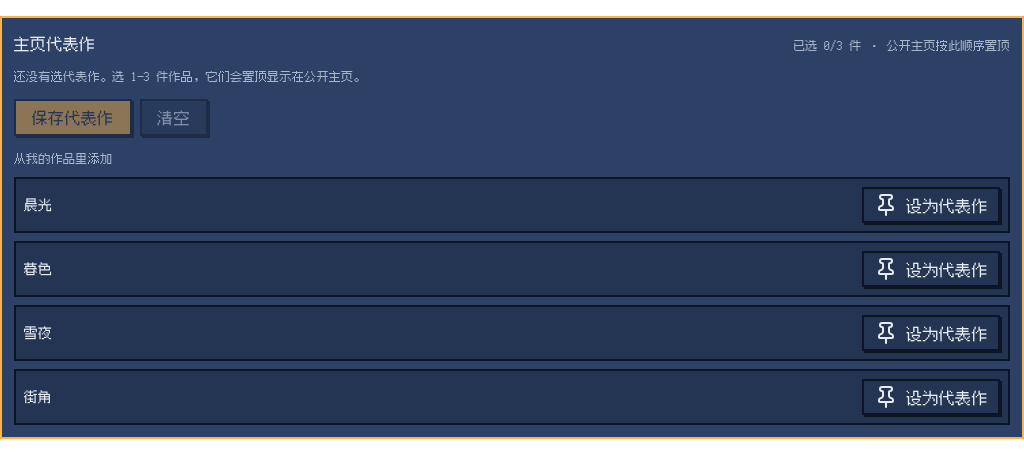
Test: PinnedWorksPicker（/me） › 保存失败时把后端文案原样提示，不吞掉校验原因
Click the button with aria-label "把「晨光」设为代表作" at (931, 205), box top-left (862, 187), bottom-right (1000, 223)
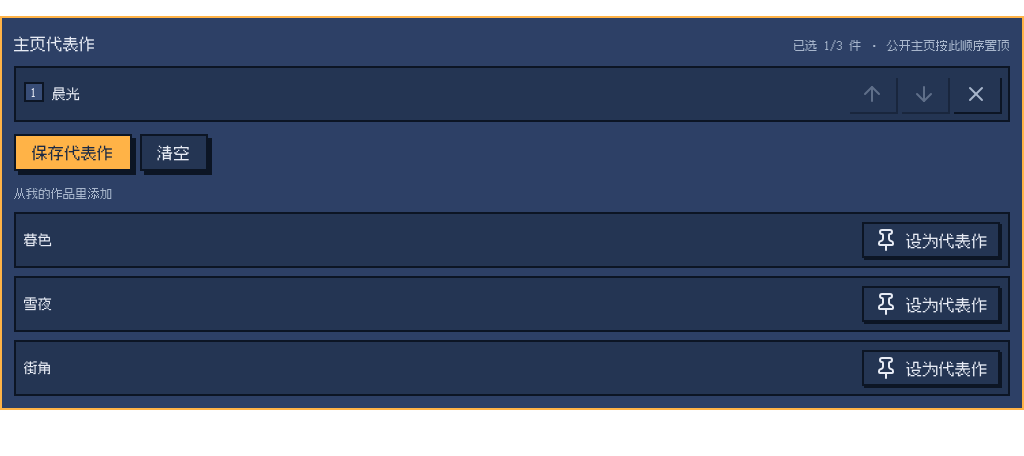
Click the button "保存代表作" at (73, 153), box top-left (14, 134), bottom-right (132, 171)
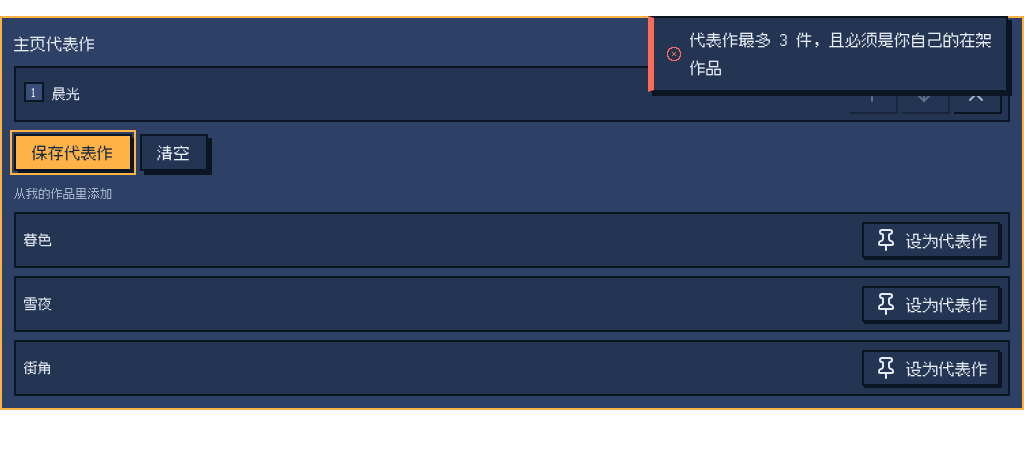
Expected: the message shows "代表作最多 3 件", top-left (690, 29), bottom-right (992, 78)
